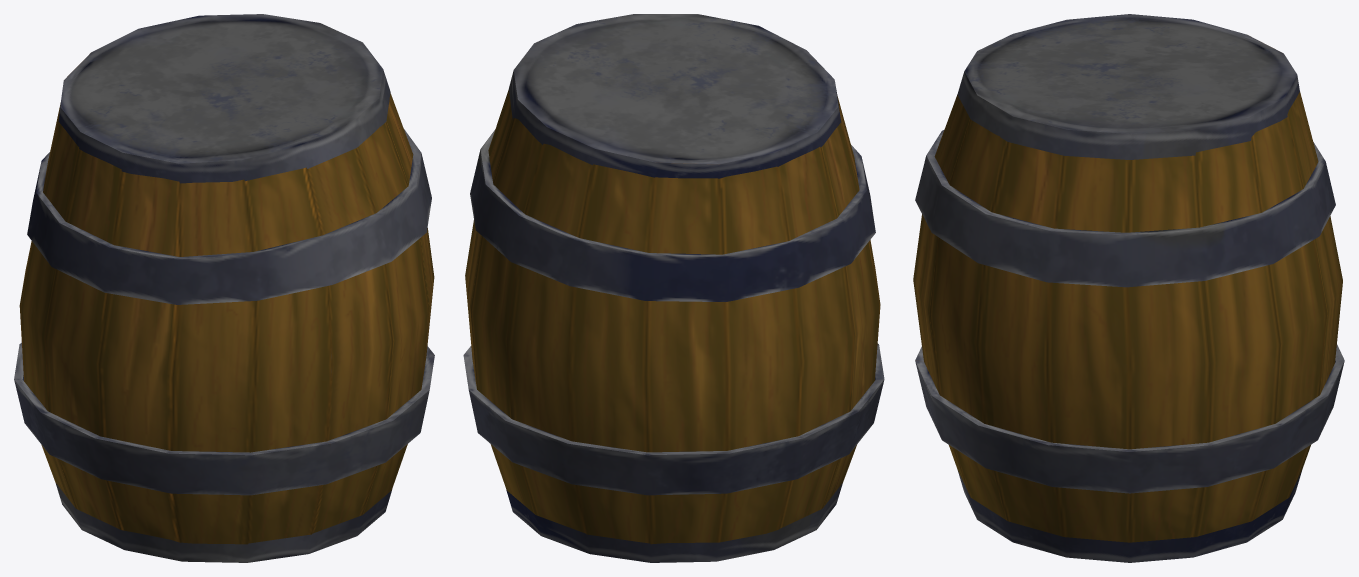
Rendered from V_Barril_Claro2.fbx.
The picture shows the model from 3 angles, left to right: view 1: azimuth 30°, elevation 25°; view 2: azimuth 150°, elevation 25°; view 3: azimuth 270°, elevation 25°; orthographic projection.
Parts seen in each view (by area): view 1: V_Barril_Claro2; view 2: V_Barril_Claro2; view 3: V_Barril_Claro2.
Part boxes in pixels (box(x1,y1,x2,y2)): V_Barril_Claro2: box(14, 14, 434, 562); V_Barril_Claro2: box(463, 14, 884, 562); V_Barril_Claro2: box(913, 14, 1344, 562).
Bounding box in the file's own units: 97.91 × 106 × 97.58.
